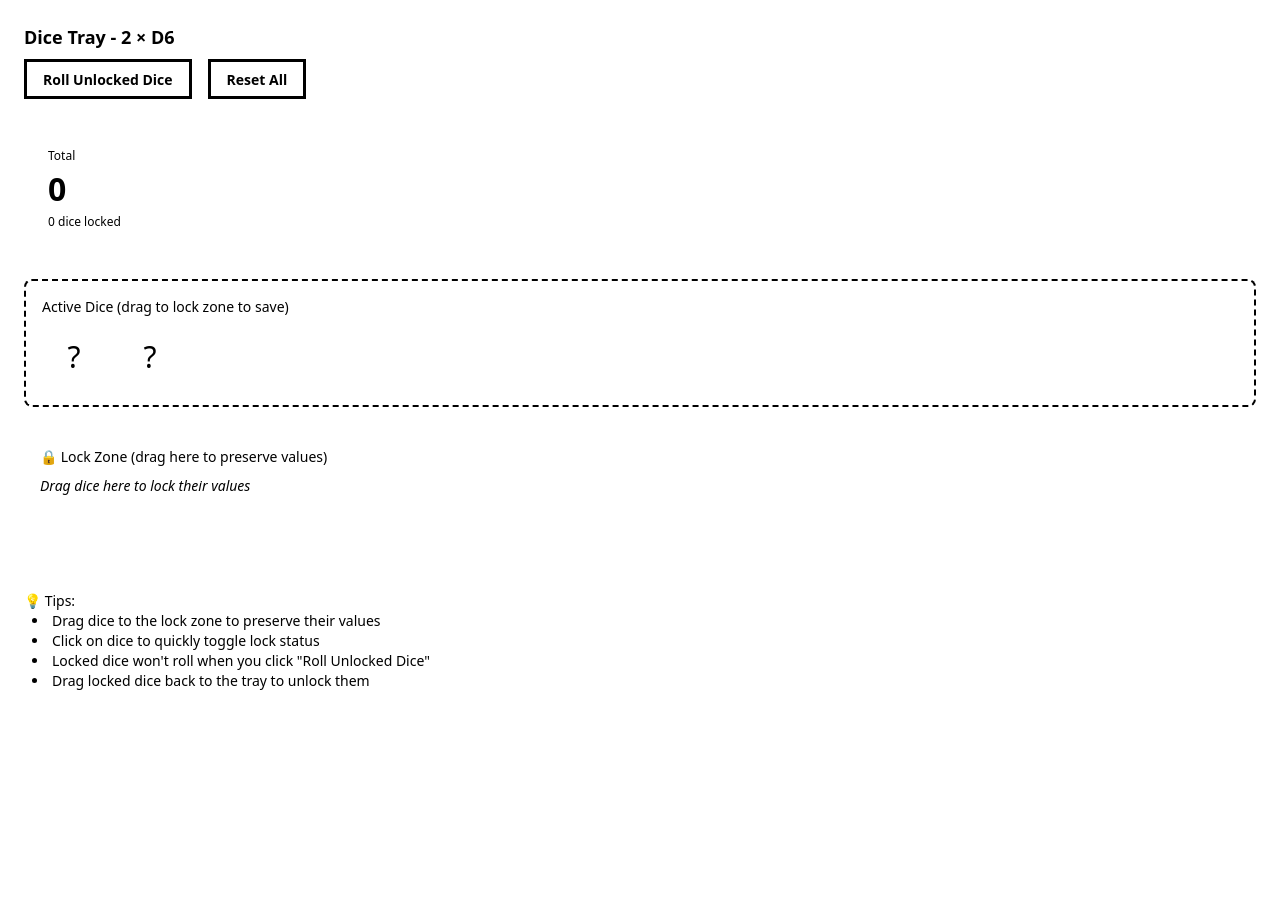
Scenario: DiceTray › resets all dice when Reset button is clicked
// First roll the dice
Click the button "Roll Unlocked Dice" at (108, 79), box [24,59,192,99]
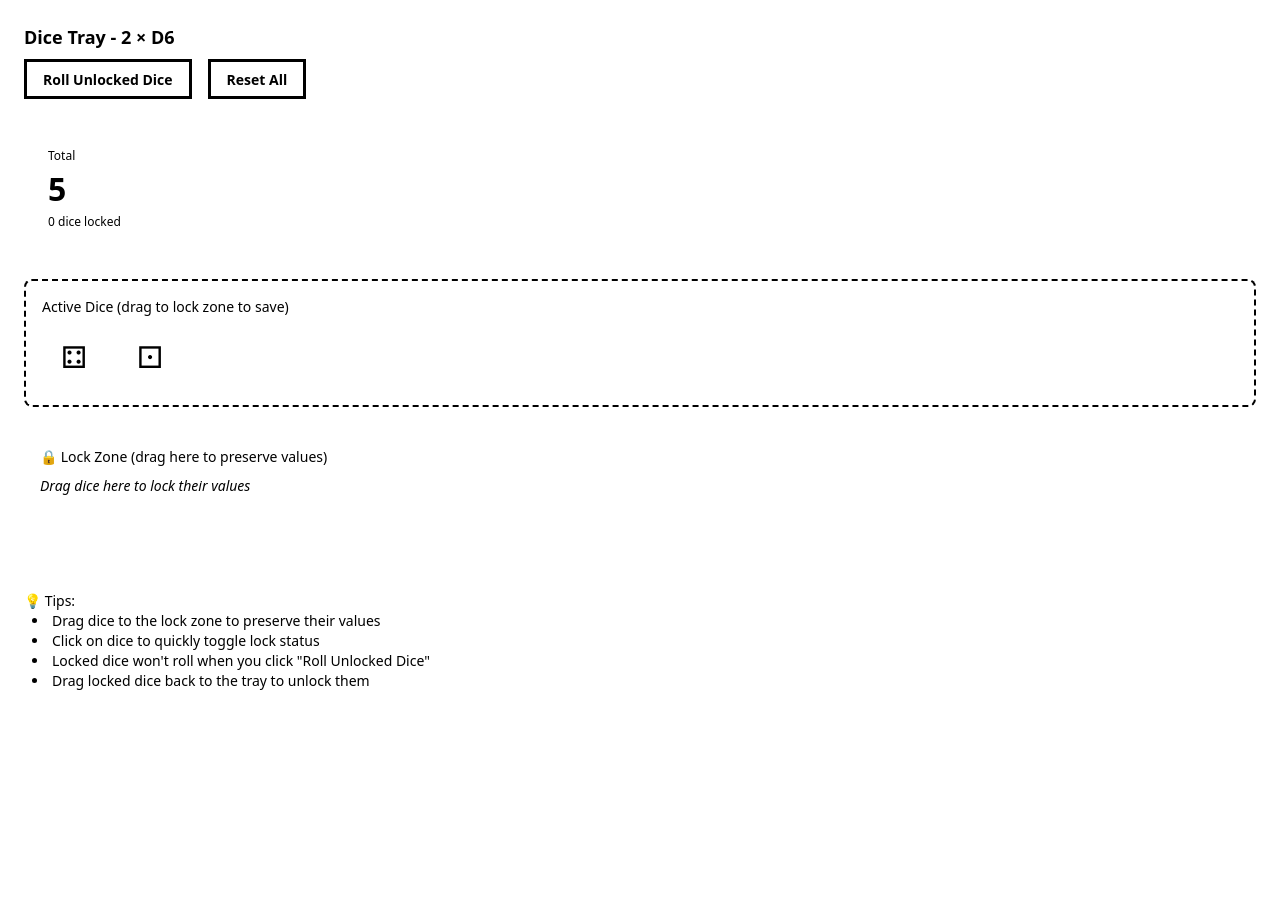
// Then reset
Click the button "Reset All" at (257, 79), box [208,59,306,99]
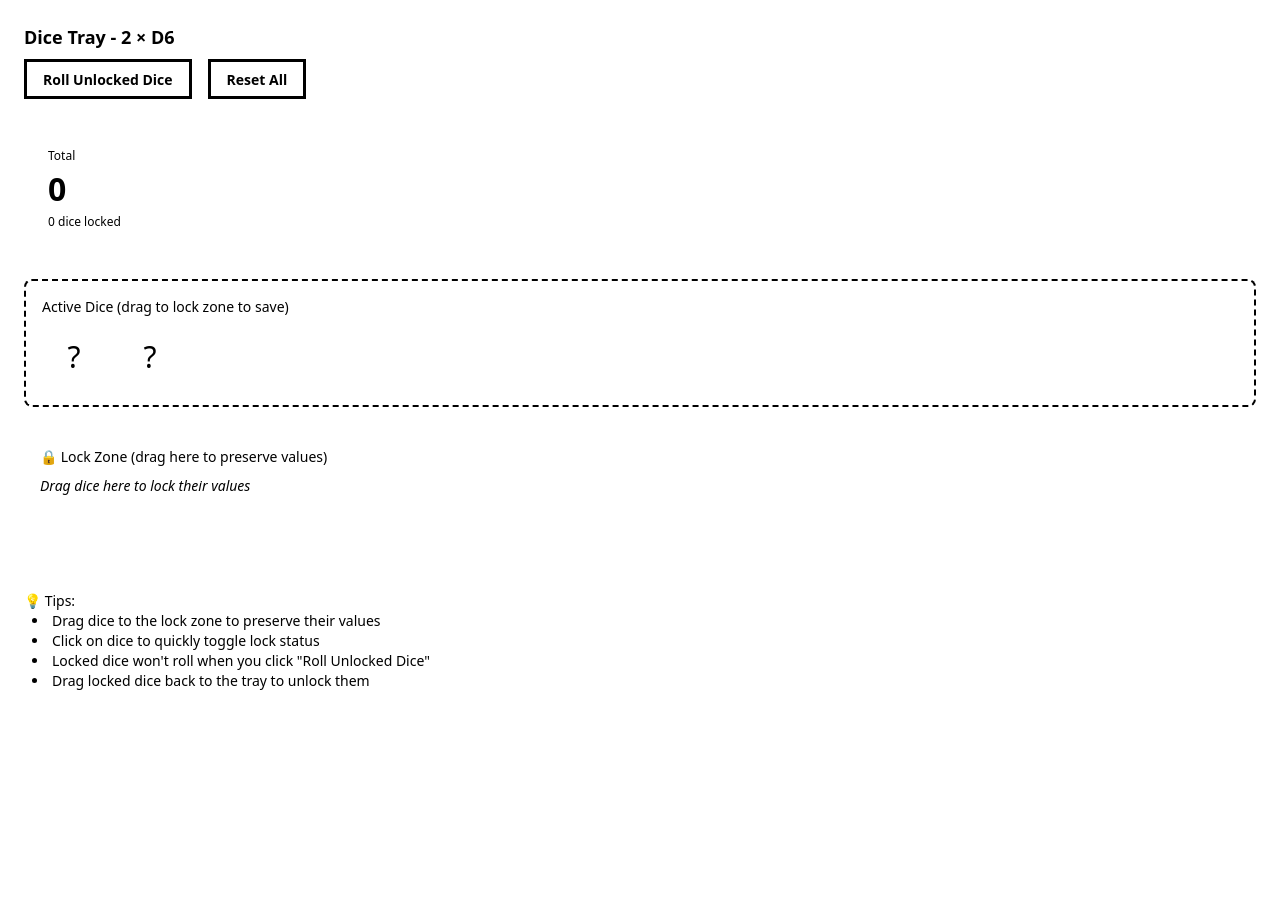
Result: the text with class "stat-value" reads "0" at [48,167,66,210]
